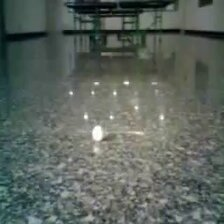w: (90, 124, 104, 142)
